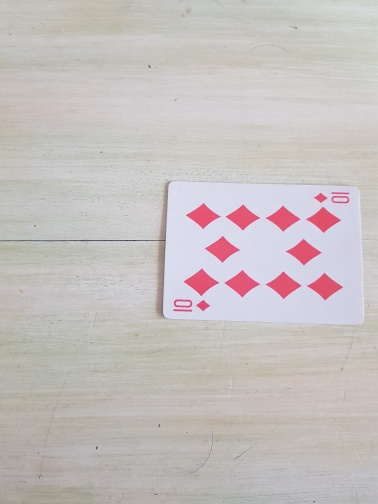ten: (160, 181, 365, 327)
